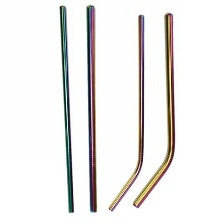drinking_straw: (130, 10, 184, 213), (102, 11, 149, 215), (51, 3, 79, 216), (83, 3, 103, 215)
